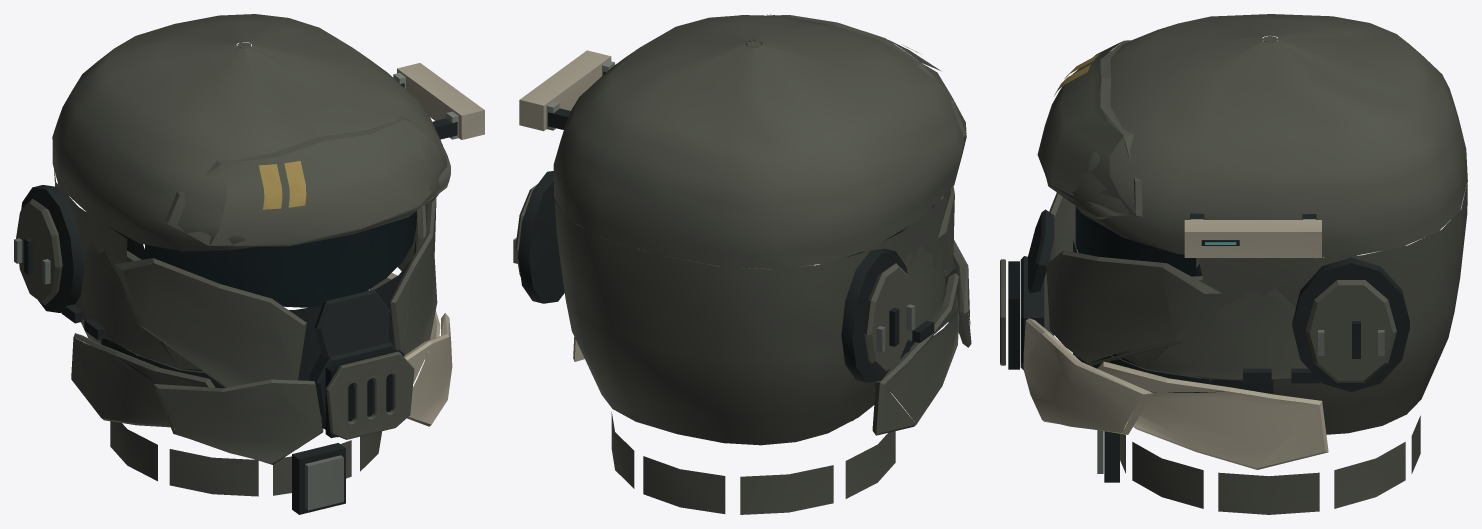
Rendered from breach_warden_d0_lod2.glb.
3 renders of one model, left to right at view 1: azimuth 30°, elevation 25°; view 2: azimuth 150°, elevation 25°; view 3: azimuth 270°, elevation 25°, orthographic. The views are drawn at different scales.
Visible parts, largest first — view 1: DISTANCE_SURFACE; view 2: DISTANCE_SURFACE; view 3: DISTANCE_SURFACE.
Part boxes in pixels (x1=…): DISTANCE_SURFACE: x1=14, y1=14, x2=484, y2=514; DISTANCE_SURFACE: x1=513, y1=14, x2=971, y2=514; DISTANCE_SURFACE: x1=1000, y1=14, x2=1467, y2=514.
Bounding box in the file's own units: 0.3588 × 0.367 × 0.3605.
